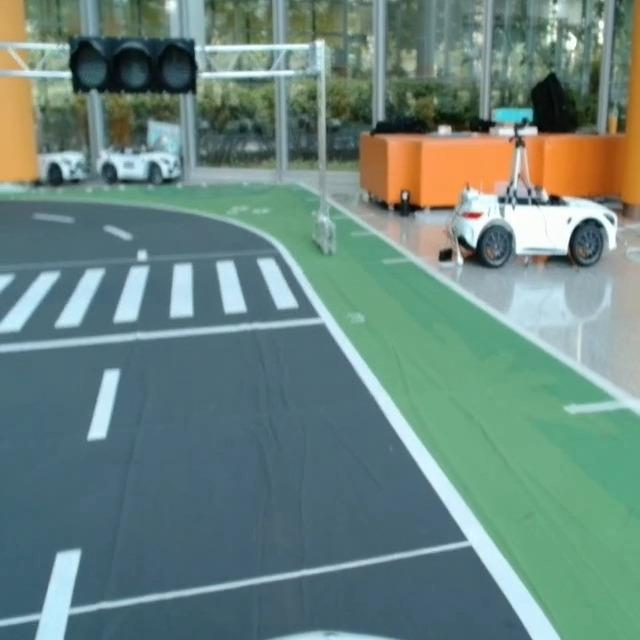traffic-light: (65, 34, 206, 95)
